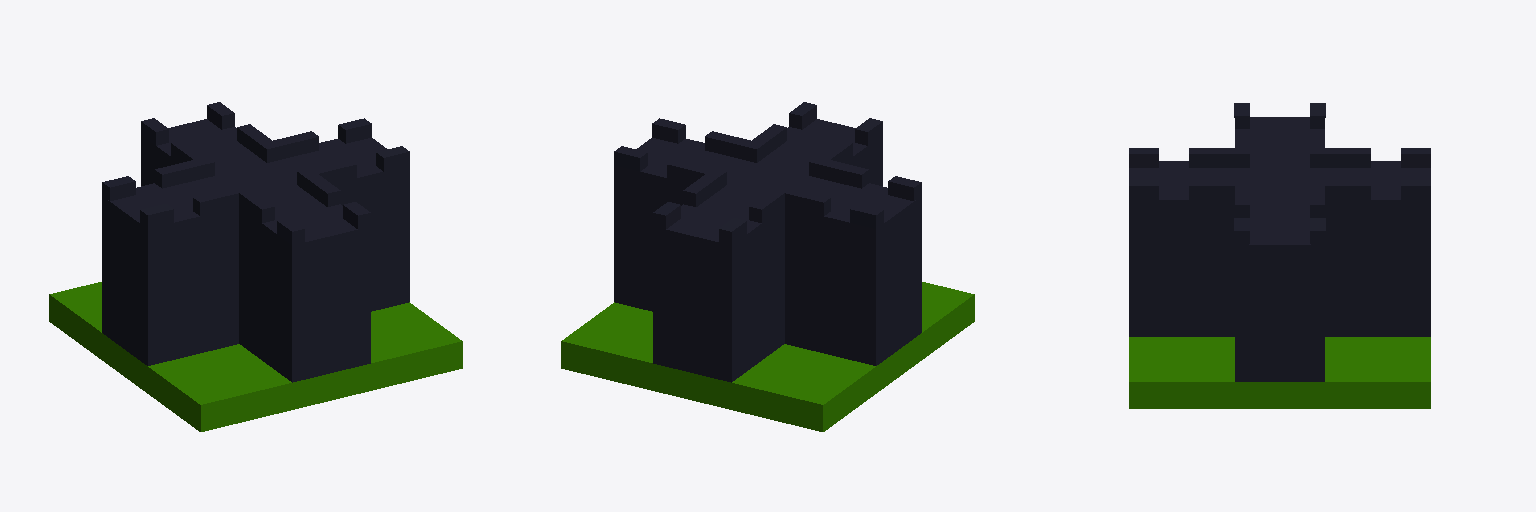
The model's file is wall.obj.
3 views of the same model, side by side, from view 1: azimuth 30°, elevation 25°; view 2: azimuth 150°, elevation 25°; view 3: azimuth 270°, elevation 25° (orthographic).
Parts seen in each view (by area): view 1: Box002, Box001, Tilebase100, Box015, Box013, Box014, Box012; view 2: Box002, Box001, Tilebase100, Box014, Box012, Box015, Box013; view 3: Box001, Box002, Tilebase100, Box012, Box013, Box014, Box015.
Part boxes in pixels (bbox=[...]): Box002: bbox=[102, 138, 409, 365]; Box001: bbox=[141, 119, 370, 382]; Tilebase100: bbox=[49, 282, 462, 431]; Box015: bbox=[207, 102, 371, 162]; Box013: bbox=[140, 184, 304, 245]; Box014: bbox=[297, 146, 409, 228]; Box012: bbox=[102, 118, 214, 200]; Box002: bbox=[614, 138, 921, 365]; Box001: bbox=[653, 119, 882, 382]; Tilebase100: bbox=[561, 282, 974, 431]; Box014: bbox=[652, 102, 816, 162]; Box012: bbox=[719, 184, 883, 245]; Box015: bbox=[614, 146, 726, 228]; Box013: bbox=[809, 118, 921, 200]; Box001: bbox=[1129, 161, 1430, 336]; Box002: bbox=[1235, 117, 1324, 381]; Tilebase100: bbox=[1129, 337, 1430, 408]; Box012: bbox=[1310, 103, 1430, 167]; Box013: bbox=[1129, 103, 1249, 167]; Box014: bbox=[1129, 180, 1249, 244]; Box015: bbox=[1310, 180, 1430, 244].
Bounding box in the file's own units: 10 × 6.5 × 10.